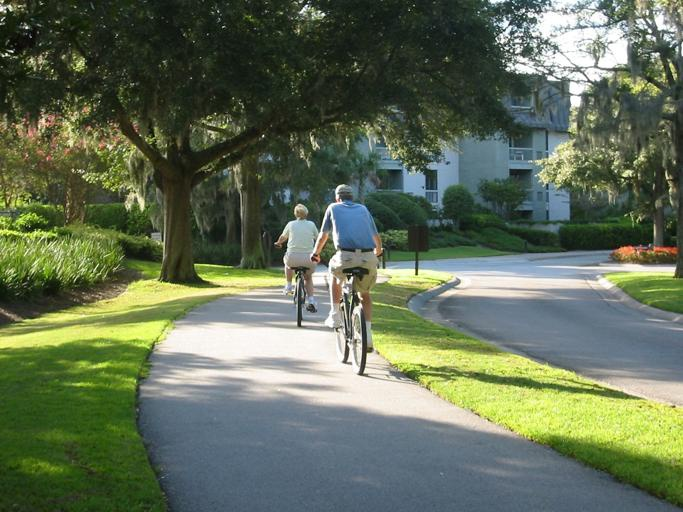non-vehicle: (309, 247, 384, 376), (275, 242, 317, 326)
